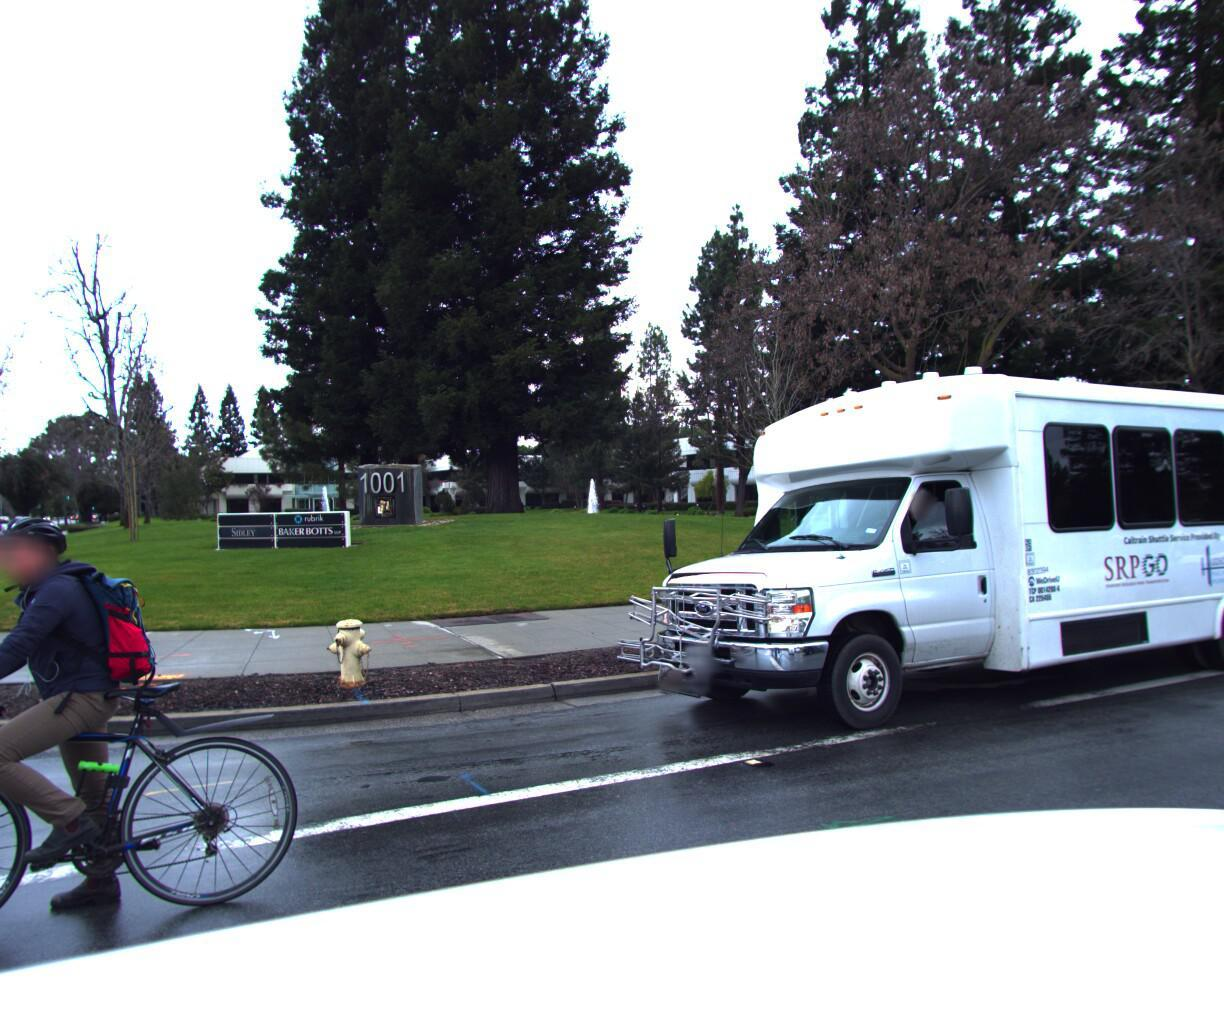bicycle: (0, 482, 333, 1024)
bus: (574, 333, 1224, 766)
